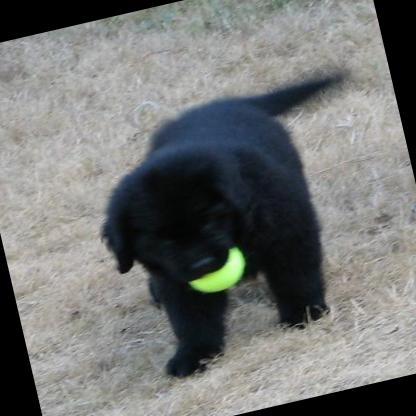Newfoundland: (69, 60, 408, 386)
